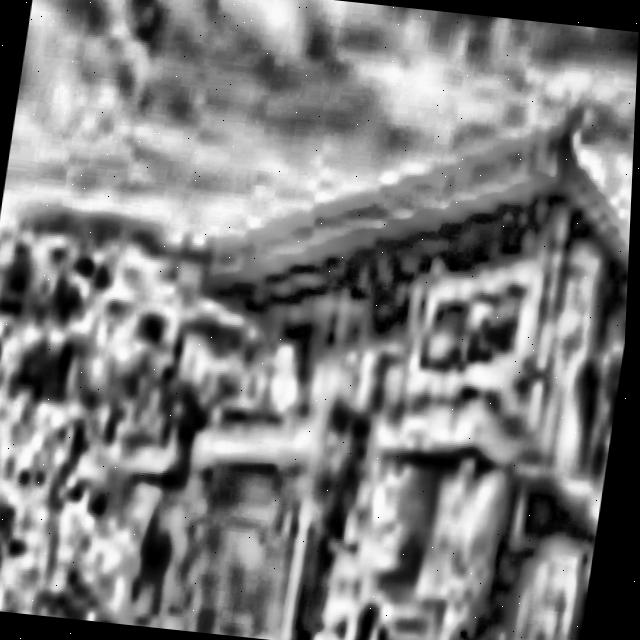dump_truck: (112, 86, 637, 640)
